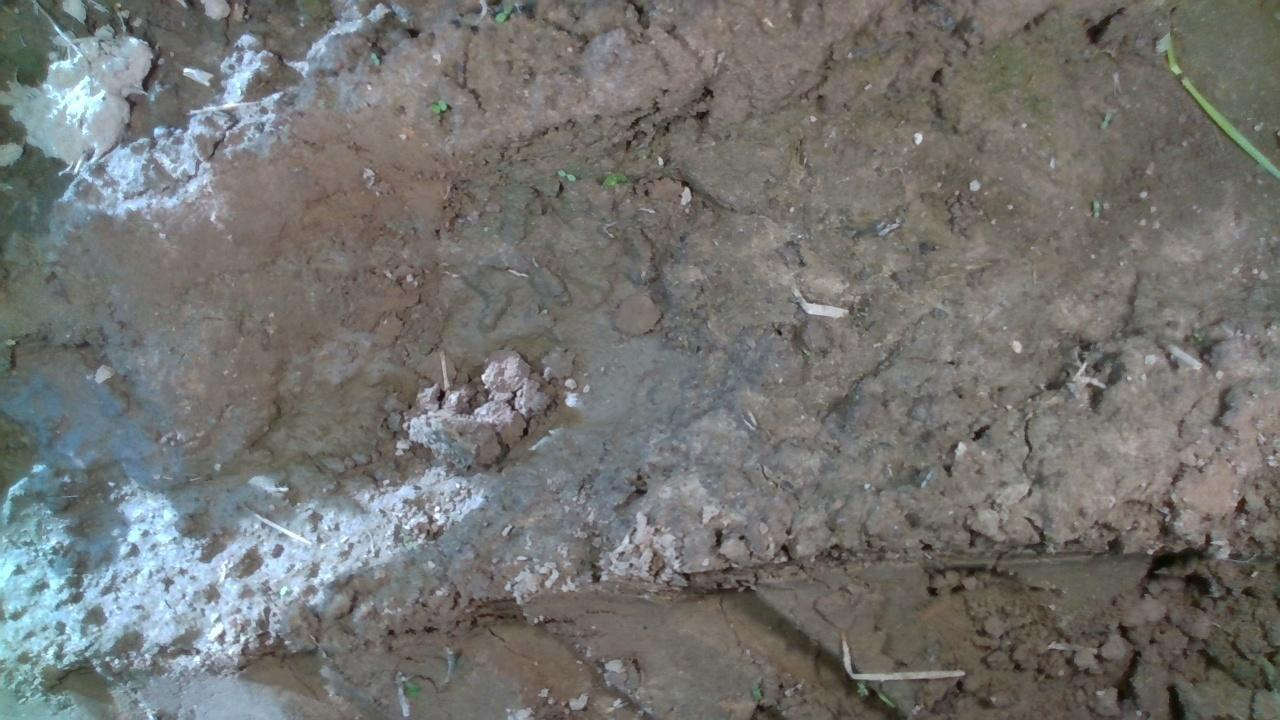weed: (554, 166, 577, 182), (425, 98, 447, 114)
